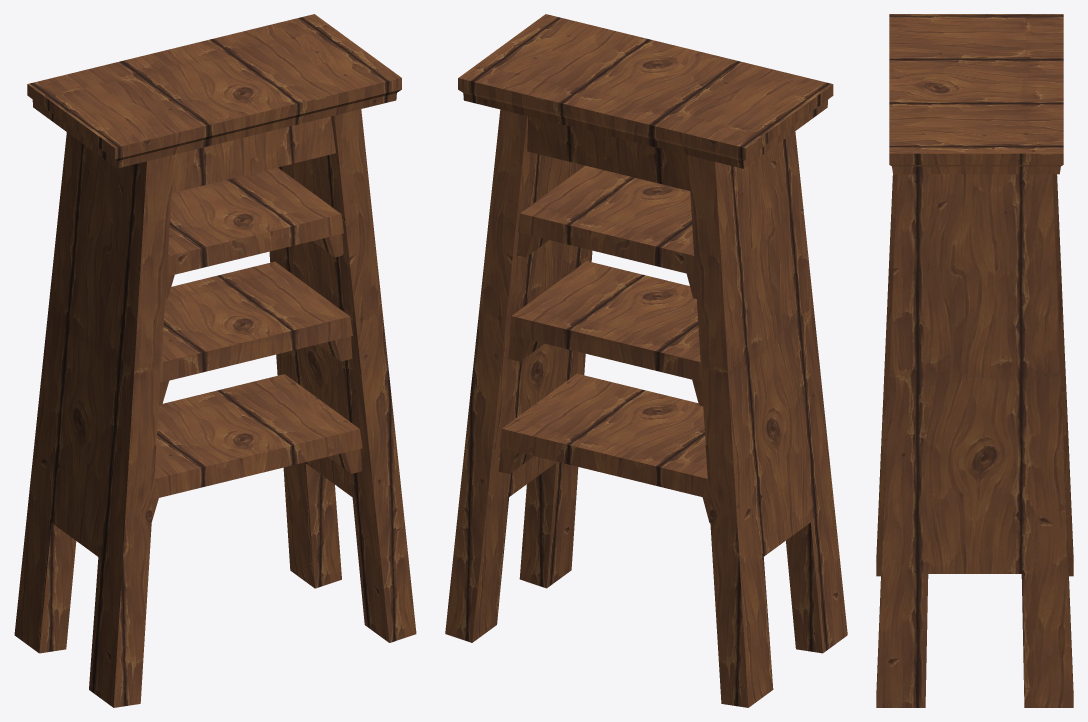
File: furn_nightstand.glb
3 renders of one model, left to right at view 1: azimuth 30°, elevation 25°; view 2: azimuth 150°, elevation 25°; view 3: azimuth 270°, elevation 25°, orthographic.
Visible parts, largest first — view 1: model; view 2: model; view 3: model.
Part boxes in pixels (box(x1,y1,x2,y2)): model: box(14, 14, 416, 707); model: box(445, 14, 847, 707); model: box(876, 14, 1073, 707).
Bounding box in the file's own units: 0.5893 × 1.03 × 0.3345.
1 material, 1 textured.
